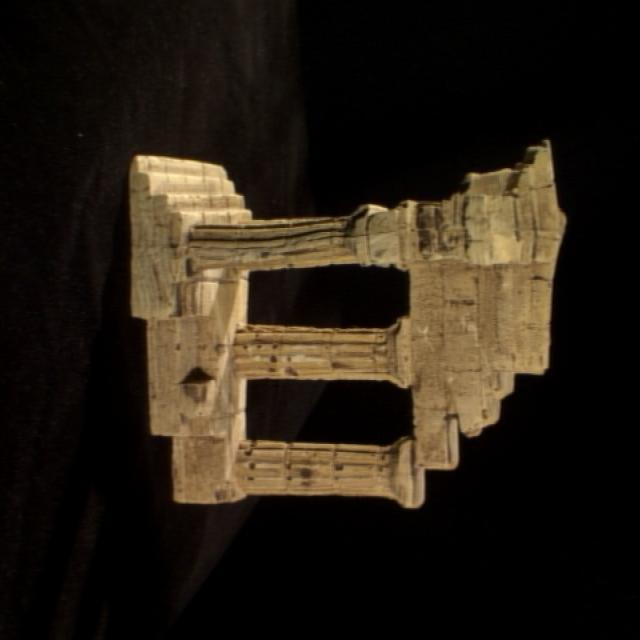Instance-Segmentation: (130, 141, 565, 507)
